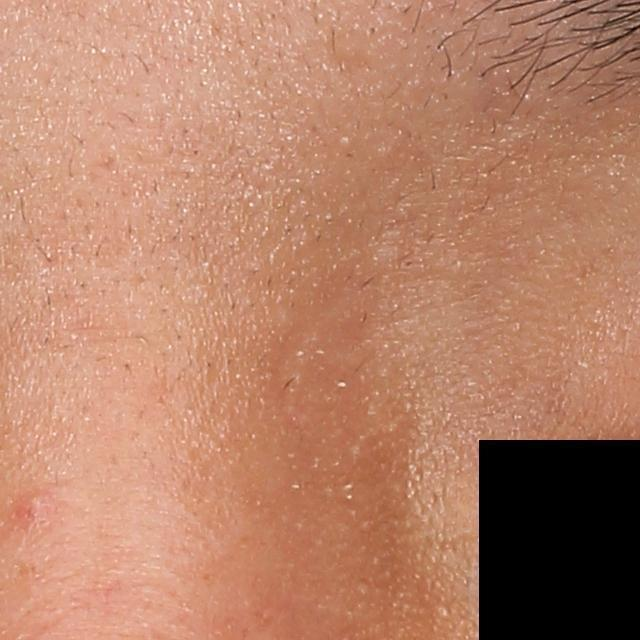papule: (21, 489, 49, 519)
